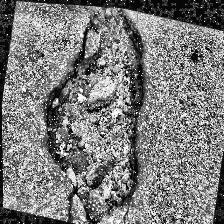pothole: (24, 2, 166, 224)
